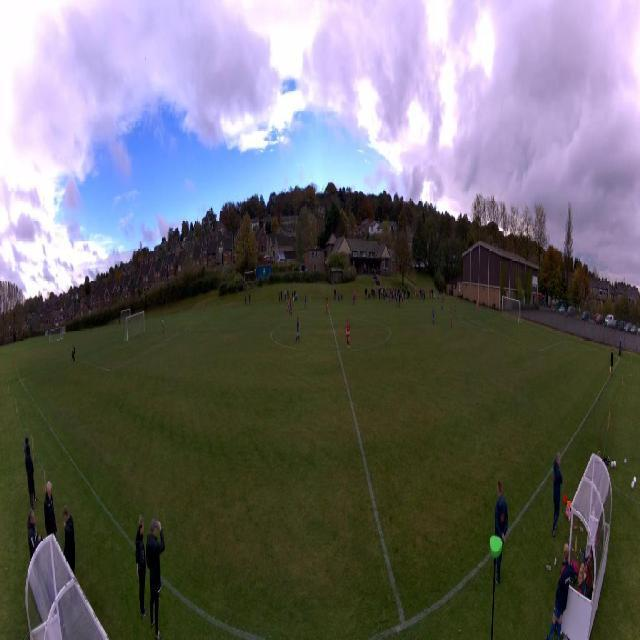player: (295, 316, 301, 343), (346, 319, 350, 348), (325, 298, 329, 316), (286, 298, 290, 315), (432, 307, 435, 325), (289, 298, 292, 316), (304, 293, 307, 309), (353, 291, 356, 306), (450, 309, 452, 328), (162, 317, 164, 335), (354, 290, 357, 301), (441, 295, 443, 311), (399, 292, 401, 308), (454, 299, 456, 314), (476, 300, 478, 314), (396, 293, 398, 307), (402, 293, 404, 307), (423, 289, 425, 301), (389, 291, 391, 303), (443, 289, 445, 301), (393, 291, 395, 303)
